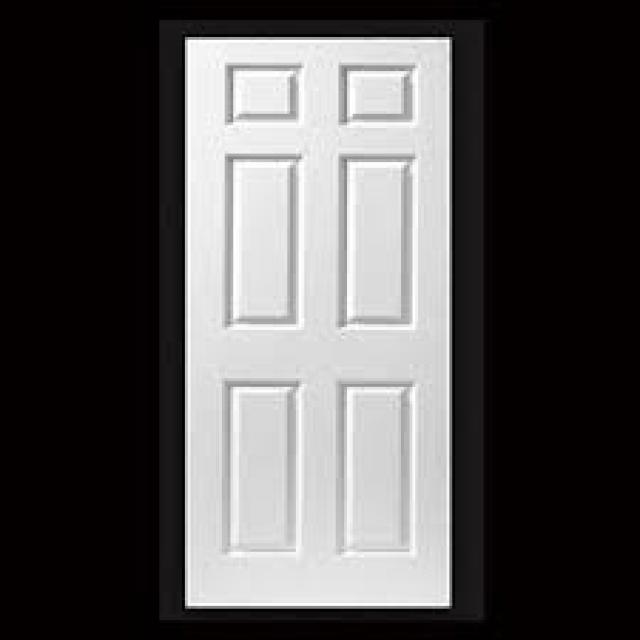door: (182, 33, 455, 610)
